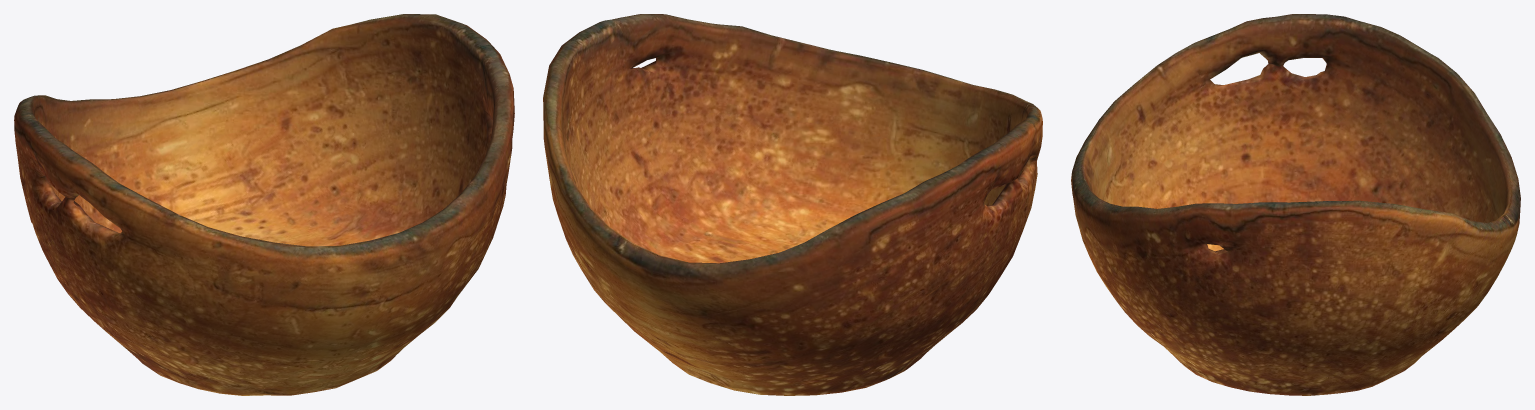
File: wooden_bowl_02.glb
3 views of the same model, side by side, from view 1: azimuth 30°, elevation 25°; view 2: azimuth 150°, elevation 25°; view 3: azimuth 270°, elevation 25° (orthographic). The views are drawn at different scales.
Parts seen in each view (by area): view 1: wooden_bowl_02; view 2: wooden_bowl_02; view 3: wooden_bowl_02.
Part boxes in pixels (x1=…): wooden_bowl_02: x1=14, y1=14, x2=514, y2=395; wooden_bowl_02: x1=543, y1=14, x2=1042, y2=395; wooden_bowl_02: x1=1071, y1=14, x2=1520, y2=395.
Size of the model in its own units: 0.1307 by 0.0731 by 0.1245.
1 material, 1 textured.
